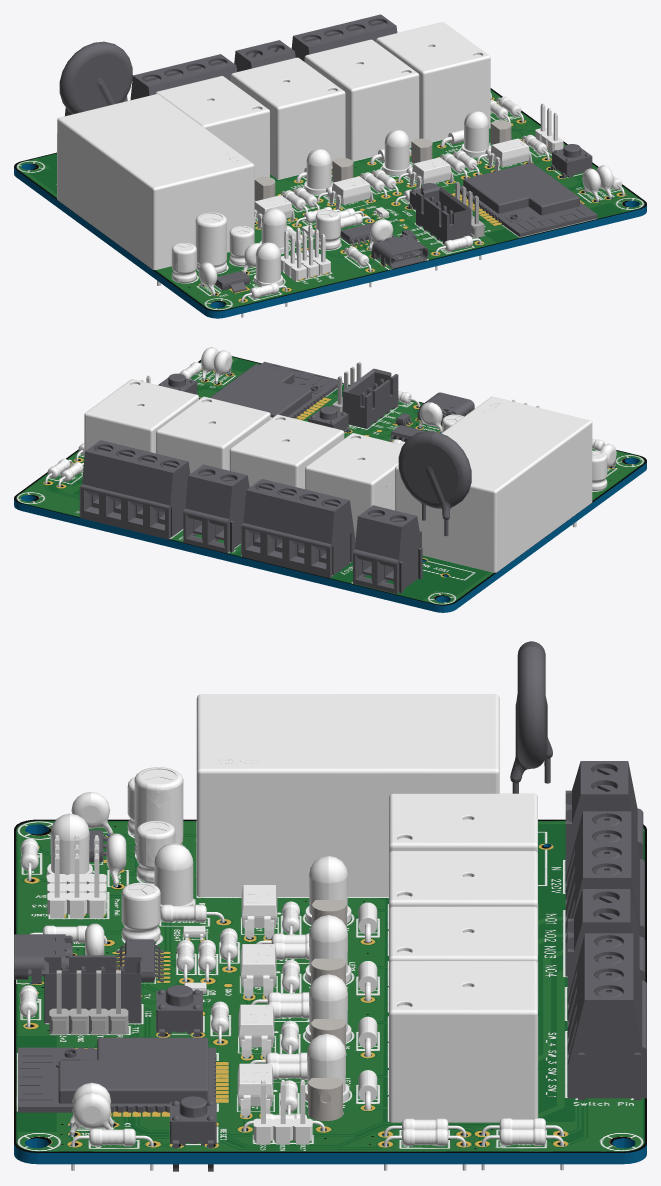
The picture shows the model from 3 angles, top to bottom: view 1: azimuth 30°, elevation 25°; view 2: azimuth 150°, elevation 25°; view 3: azimuth 270°, elevation 25°; orthographic projection. The views are drawn at different scales.
Visible parts, largest first — view 1: U5-mesh, Board-mesh, RLY2-mesh, RLY3-mesh, RLY4-mesh, U9-mesh, RLY1-mesh, R11-mesh, CN3-mesh, CN1-mesh (×4), CN4-mesh (×4), C20-mesh (+26 smaller); view 2: U5-mesh, Board-mesh, CN1-mesh (×4), CN4-mesh (×4), RLY1-mesh, RLY2-mesh, RLY3-mesh, P6-mesh, RLY4-mesh, P1-mesh, R11-mesh, U9-mesh (+8 smaller); view 3: Board-mesh, U5-mesh, RLY4-mesh, U9-mesh, CN4-mesh (×4), RLY1-mesh, RLY2-mesh, RLY3-mesh, CN1-mesh (×4), CN3-mesh, R11-mesh, P6-mesh (+29 smaller).
Part boxes in pixels (x1,y1,x2,y2): U5-mesh: (57,94,254,285); Board-mesh: (14,88,646,318); RLY2-mesh: (231,57,345,179); RLY3-mesh: (304,39,419,161); RLY4-mesh: (376,22,490,141); U9-mesh: (460,162,597,237); RLY1-mesh: (155,76,269,178); R11-mesh: (59,41,132,114); CN3-mesh: (416,186,471,244); CN1-mesh (×4): (130,54,237,100); CN4-mesh (×4): (291,14,397,61); C20-mesh: (195,212,226,273); U5-mesh: (395,396,592,572); Board-mesh: (14,356,646,612); CN1-mesh (×4): (241,479,355,578); CN4-mesh (×4): (79,440,190,539); RLY1-mesh: (305,433,402,541); RLY2-mesh: (229,414,344,489); RLY3-mesh: (156,396,270,473); P6-mesh: (353,505,422,593); RLY4-mesh: (84,379,198,456); P1-mesh: (183,464,249,553); R11-mesh: (398,431,471,536); U9-mesh: (210,361,342,418); Board-mesh: (14,819,646,1164); U5-mesh: (196,694,499,896); RLY4-mesh: (389,961,537,1122); U9-mesh: (18,1037,215,1112); CN4-mesh (×4): (567,933,646,1100); RLY1-mesh: (389,793,537,853); RLY2-mesh: (389,851,537,909); RLY3-mesh: (389,906,537,963); CN1-mesh (×4): (565,811,644,976); CN3-mesh: (44,955,141,1023); R11-mesh: (510,641,552,793); P6-mesh: (565,761,643,877).
Size of the model in its own units: 0.1016 by 0.035 by 0.0815.
Materials: 7 (2 with a texture image).
